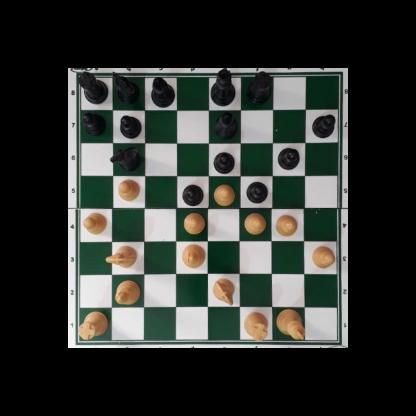black-bishop: (150, 75, 175, 108), (215, 111, 237, 139)
black-king: (211, 69, 235, 108)
black-knight: (112, 72, 139, 102), (110, 145, 141, 171)
black-pawn: (118, 114, 143, 139), (80, 112, 106, 136), (312, 113, 335, 138), (277, 146, 300, 170), (213, 151, 236, 174), (246, 180, 268, 203), (182, 184, 204, 206)
black-rook: (77, 69, 108, 104), (246, 71, 272, 104)
white-bishop: (115, 278, 140, 306), (182, 244, 205, 269)
white-king: (276, 308, 305, 341)
white-knight: (105, 245, 138, 269), (212, 277, 236, 305)
white-pawn: (310, 245, 335, 269), (275, 213, 298, 237), (83, 211, 107, 234), (244, 212, 267, 235), (118, 179, 141, 202), (212, 184, 236, 205), (184, 212, 205, 235)
white-rook: (79, 310, 109, 339), (244, 312, 269, 340)
